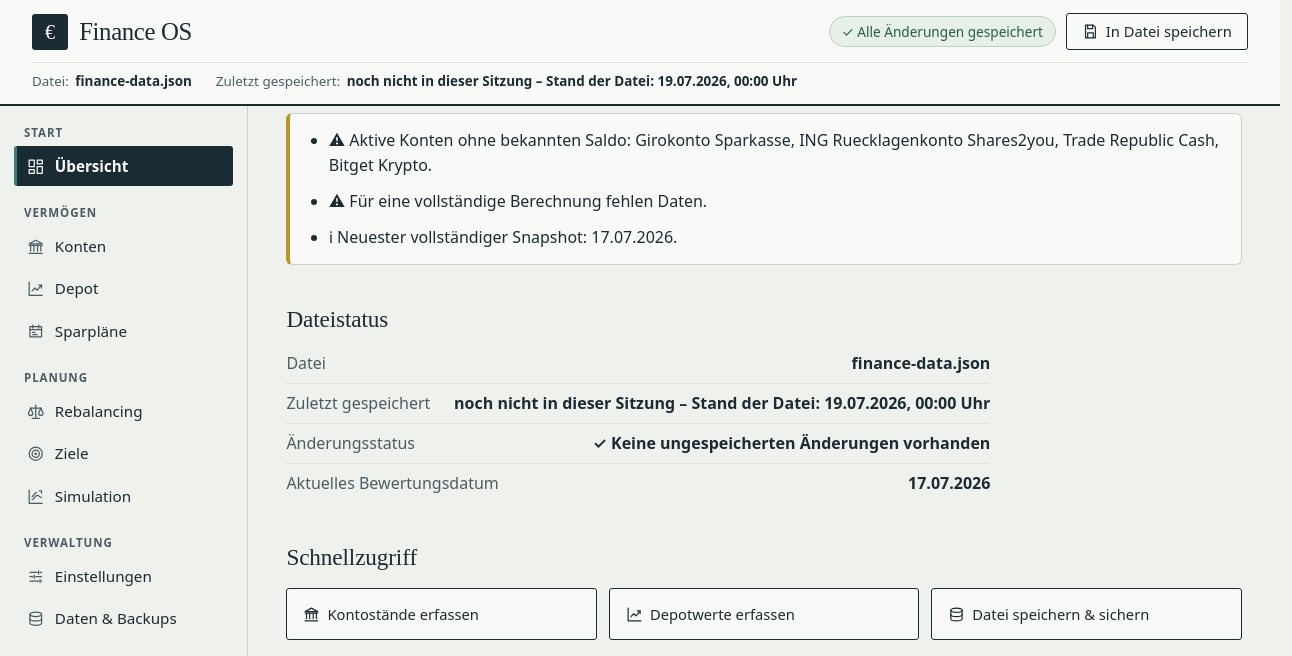
Test: DashboardPage – Navigation › „Zum Depot“ wechselt die Seite und aria-current in der Hauptnavigation
(page scrolled)
Click the button "Depotwerte erfassen" at (764, 614), box [609,588,919,640]
(page scrolled)
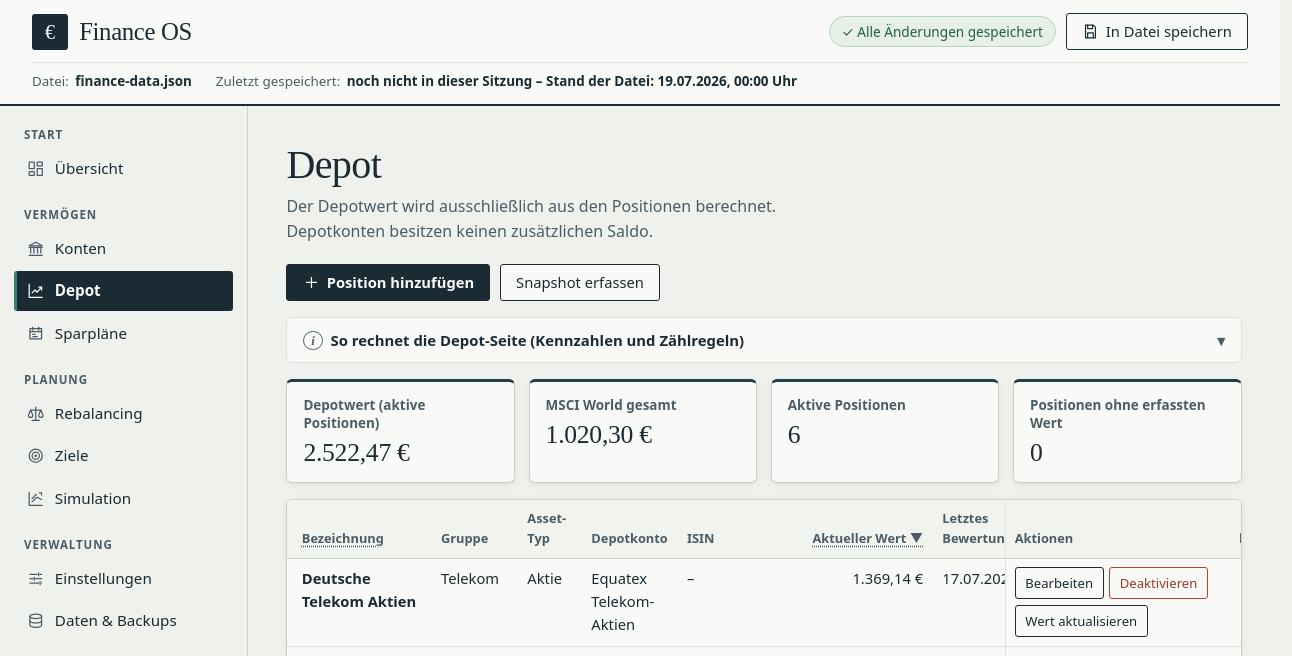
Expected: the heading "Depot" is shown, [286,142,381,187]
